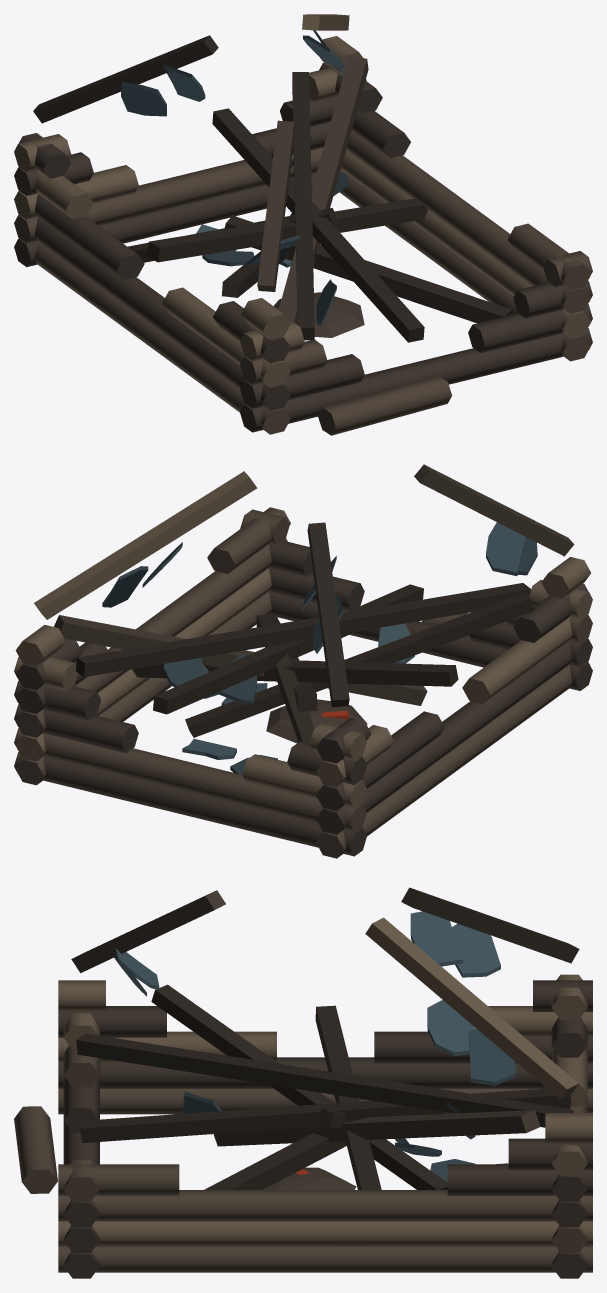
The model's file is VerHut07a.glb.
3 renders of one model, top to bottom at view 1: azimuth 30°, elevation 25°; view 2: azimuth 150°, elevation 25°; view 3: azimuth 270°, elevation 25°, orthographic. The views are drawn at different scales.
Parts seen in each view (by area): view 1: VerHut07a_log_b; view 2: VerHut07a_log_b; view 3: VerHut07a_log_b.
Boxes of the visible parts, x1=… form: VerHut07a_log_b: x1=14, y1=14, x2=592, y2=435; VerHut07a_log_b: x1=14, y1=464, x2=592, y2=858; VerHut07a_log_b: x1=14, y1=887, x2=592, y2=1278.
Size of the model in its own units: 3.36 by 2.55 by 4.64.
